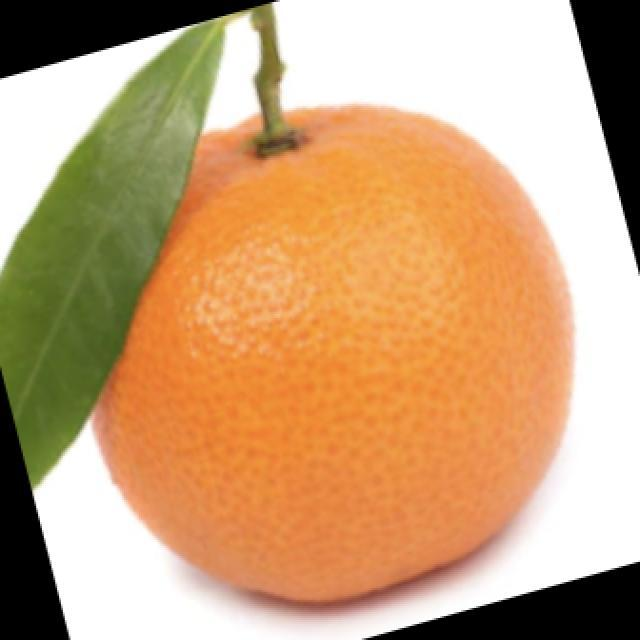matang: (96, 106, 572, 601)
